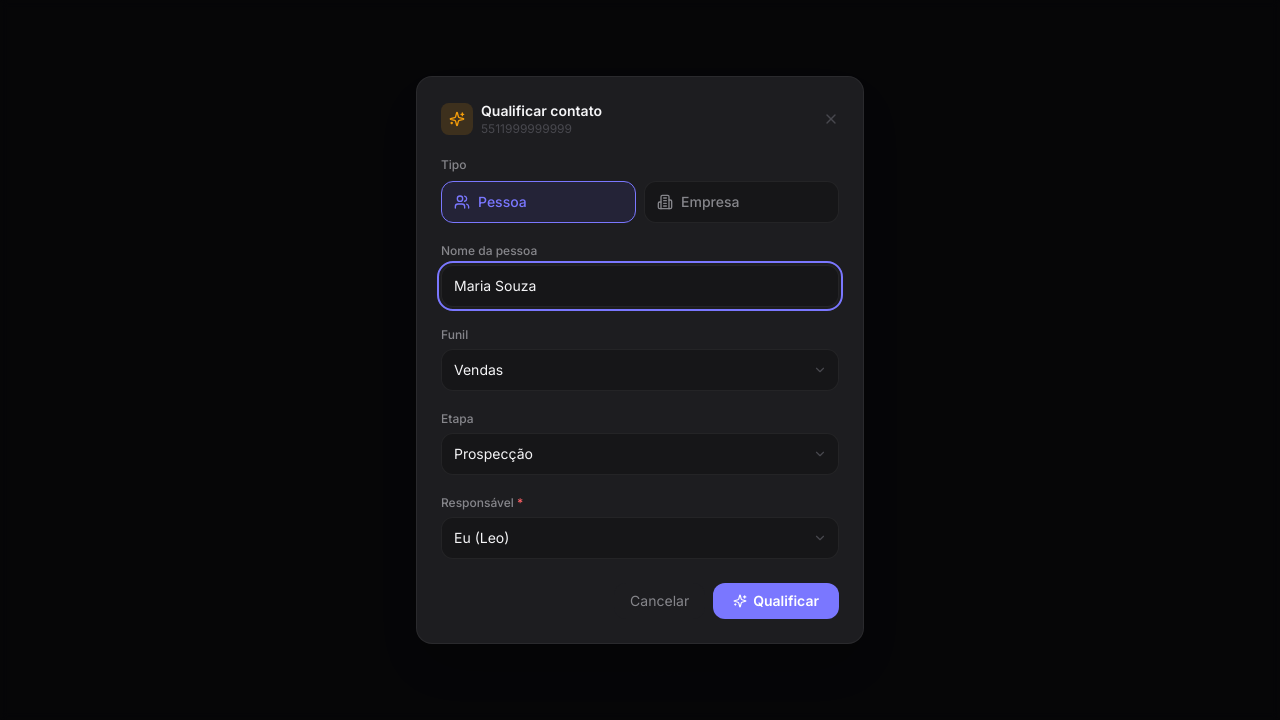
Test case: <QualifyModal /> › reseta stages para a primeira etapa do novo pipeline ao trocar funil
Select "Suporte" in the dropdown showing "Vendas" below "Funil": (640, 370) [441,349,839,391]
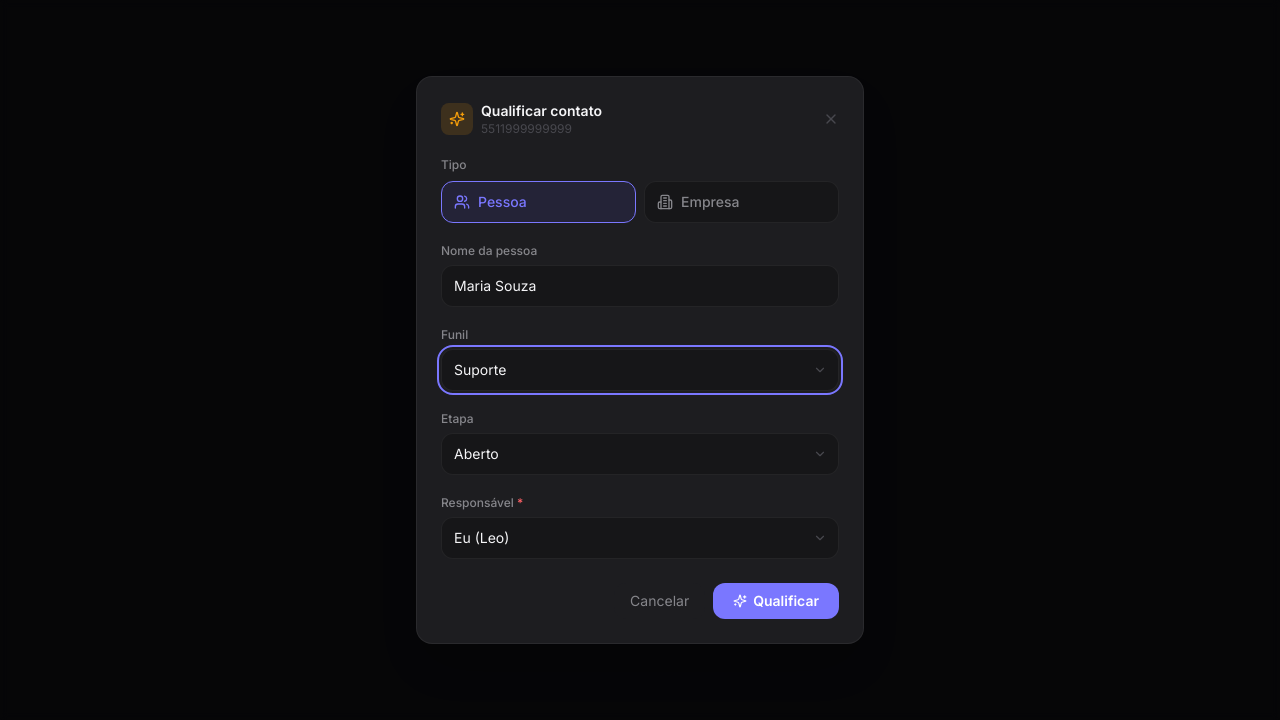
expect the text "Prospecção" is not shown: met
expect the dropdown showing "Aberto" below "Etapa" shows "Aberto": met, box [441,433,839,475]
